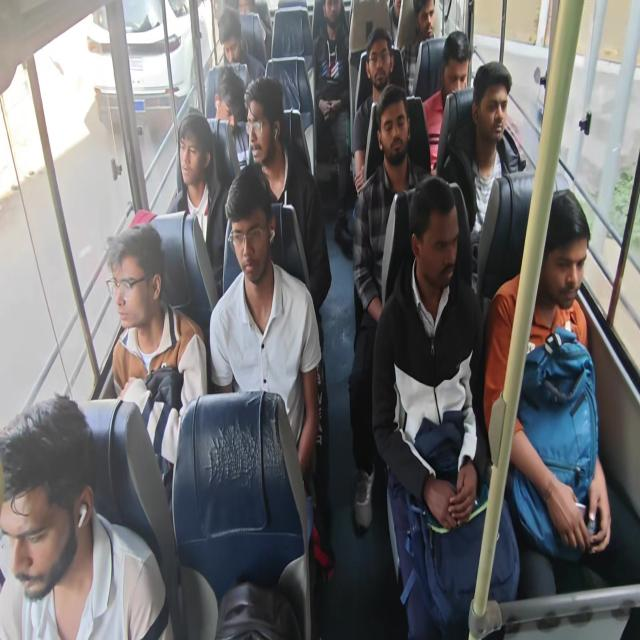person: (6, 417, 91, 598), (102, 230, 168, 336), (541, 200, 590, 310), (222, 188, 272, 286), (473, 64, 524, 152), (412, 200, 462, 286), (203, 65, 247, 139), (249, 95, 285, 167), (381, 98, 412, 168), (440, 30, 469, 96), (173, 127, 202, 192), (215, 18, 249, 69), (364, 40, 394, 89), (318, 0, 347, 40), (418, 2, 442, 45)
